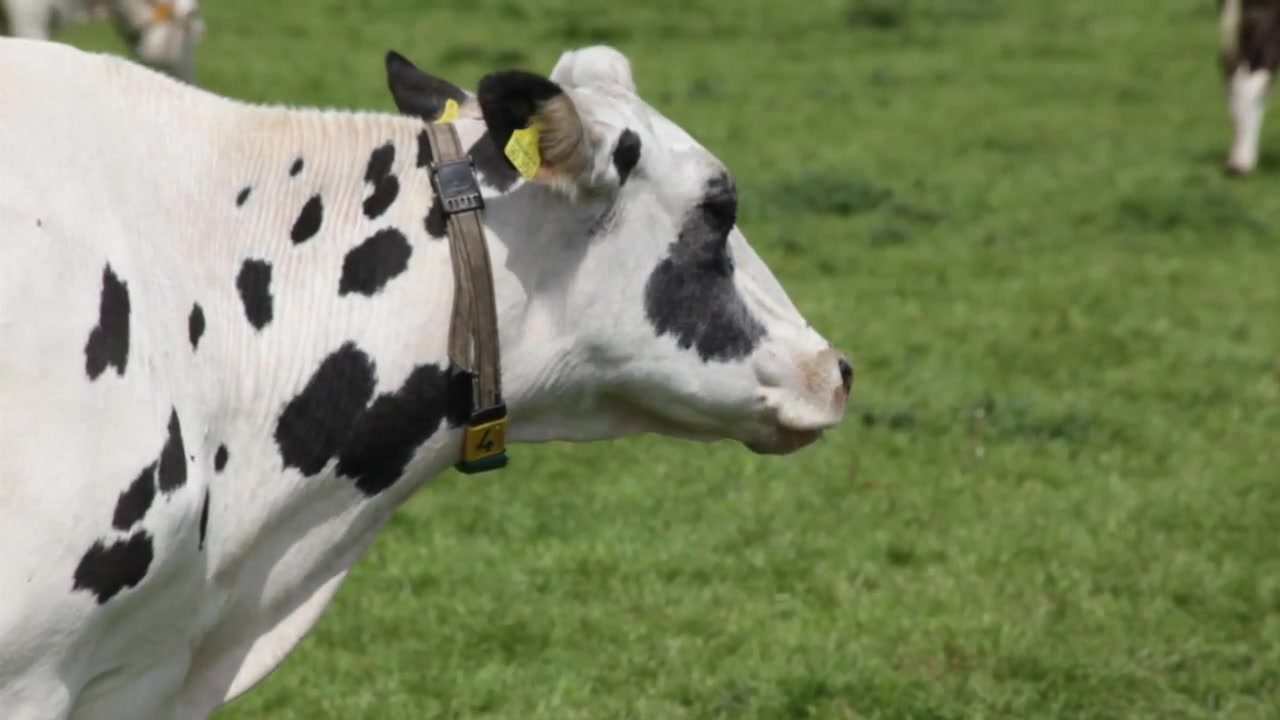cow: (1, 36, 857, 720)
